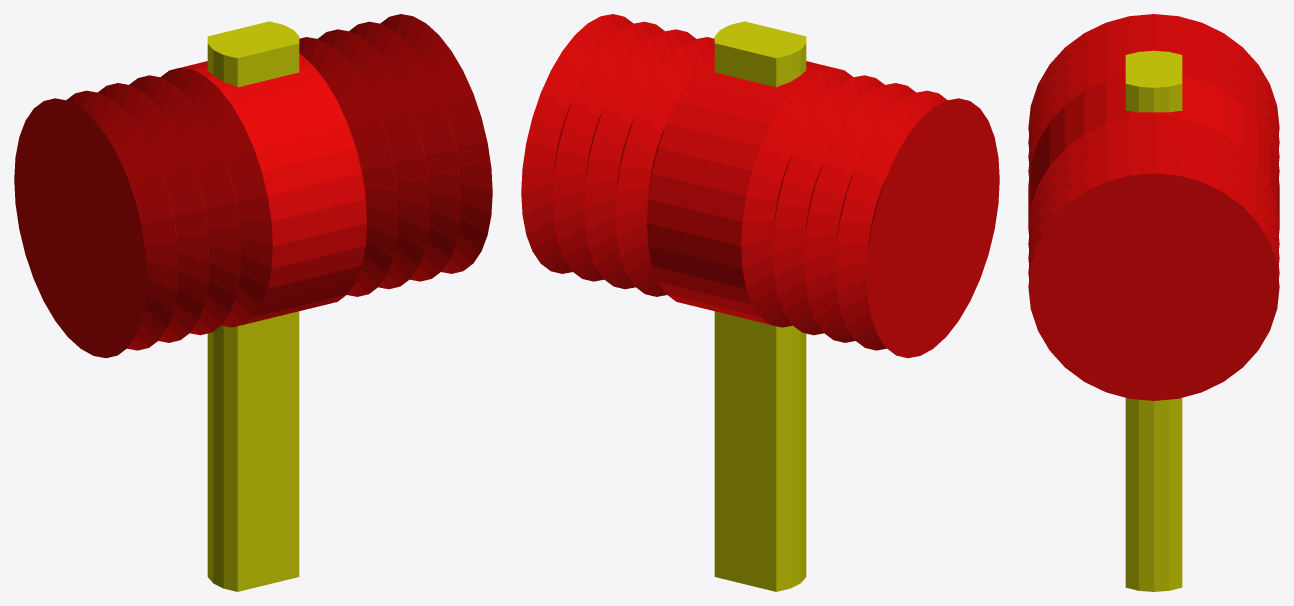
File: hammer_another.fbx
3 renders of one model, left to right at view 1: azimuth 30°, elevation 25°; view 2: azimuth 150°, elevation 25°; view 3: azimuth 270°, elevation 25°, orthographic. The views are drawn at different scales.
Visible parts, largest first — view 1: Cylinder.001; view 2: Cylinder.001; view 3: Cylinder.001.
Part boxes in pixels (left/top/right/bottom): Cylinder.001: left=14, top=14, right=492, bottom=591; Cylinder.001: left=521, top=14, right=999, bottom=591; Cylinder.001: left=1028, top=14, right=1279, bottom=591.
Size of the model in its own units: 0.9 by 1.33 by 0.6.
